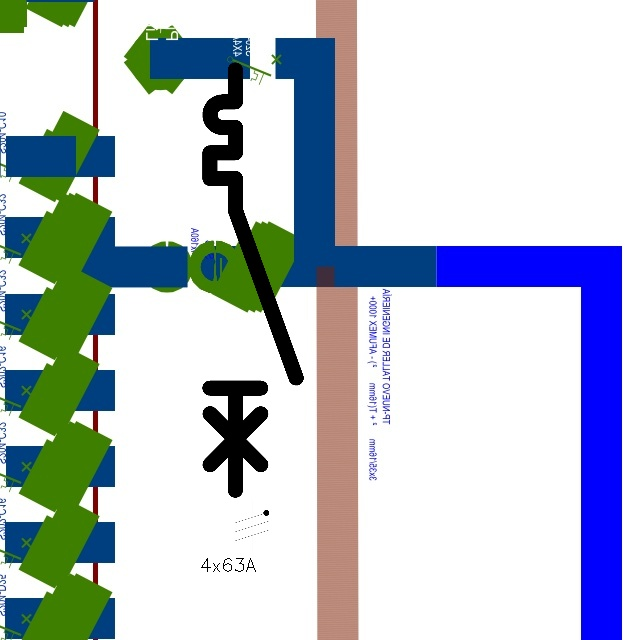interruptor_termomagnetico: (199, 59, 307, 501)
